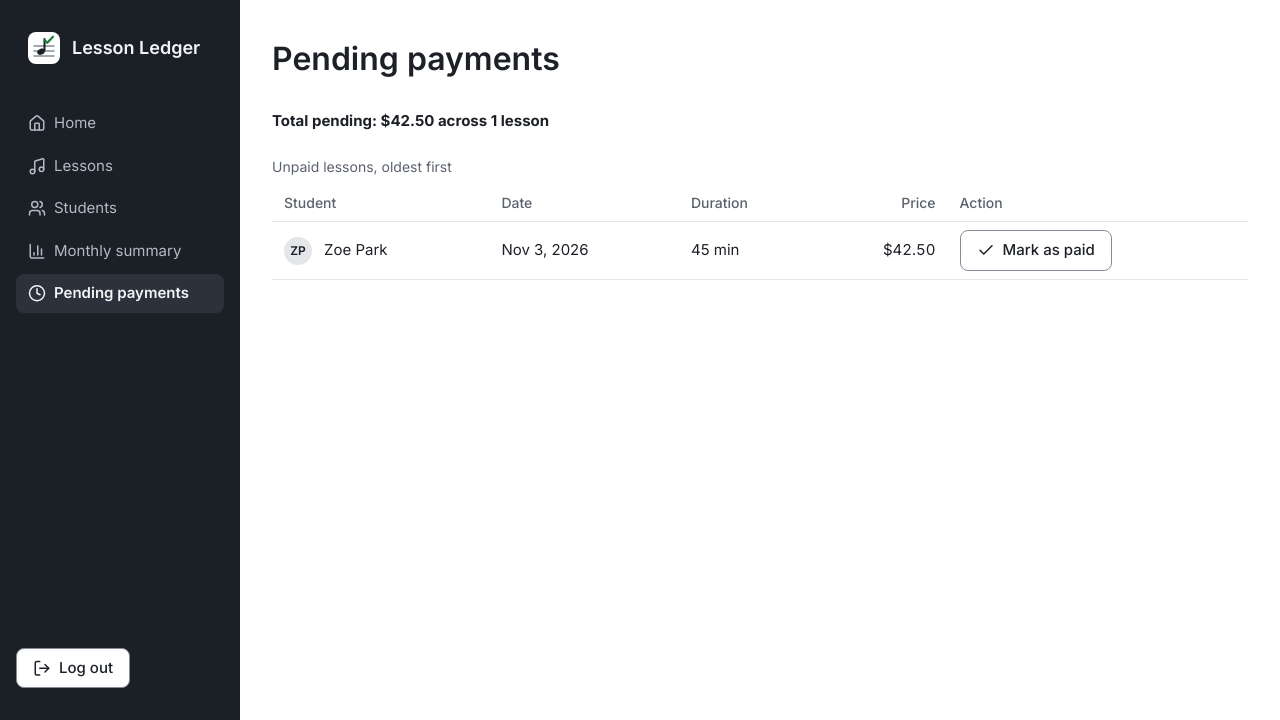
Test: F06 AC-2 the shell on every app page › AC-2f a failed log out shows the alert at the top of main and keeps the page
The image size is (1280, 720).
Expected: the heading "Pending payments" is shown, [272, 39, 560, 78]
Expected: the navigation bar named "Main" is shown, [16, 104, 224, 312]
Click the button "Log out" at (73, 668), box [16, 648, 130, 688]
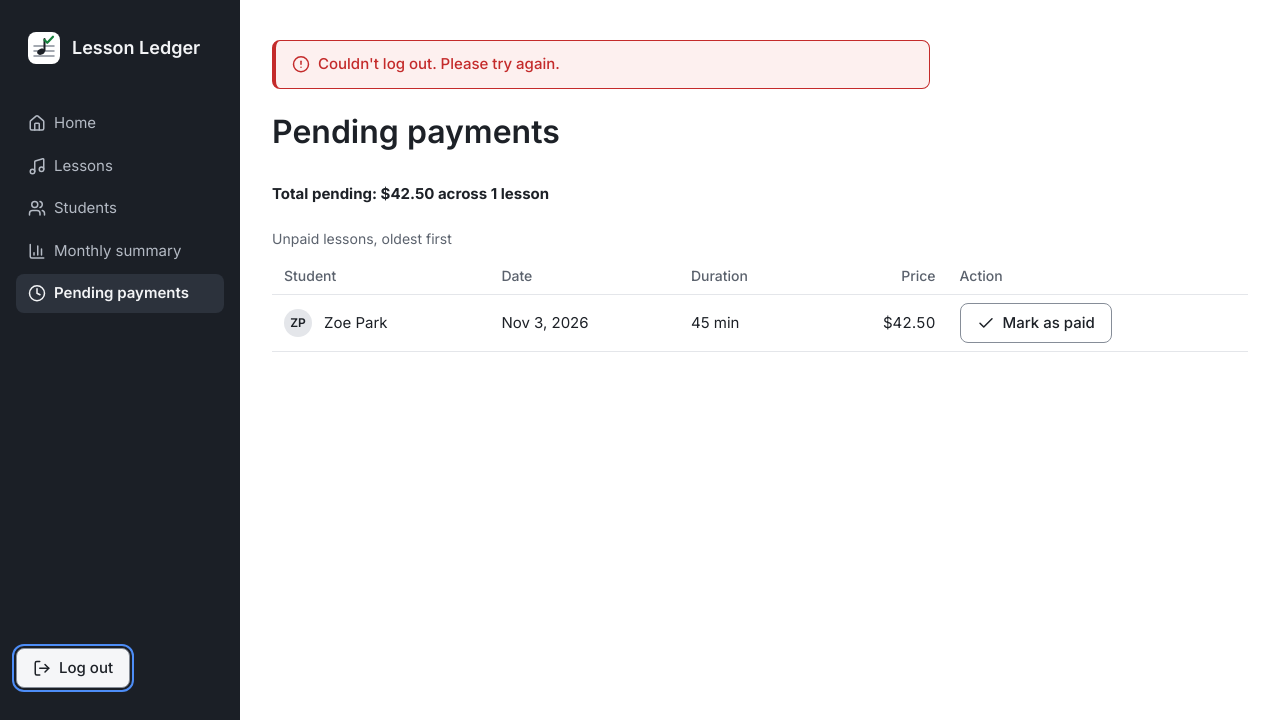
Result: the message reads "Couldn't log out. Please try again." at [318, 54, 560, 73]
